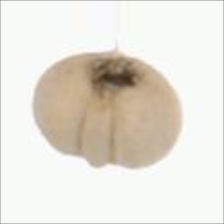L5: (77, 90, 118, 171), (84, 53, 149, 99)
L6: (31, 50, 184, 174)
